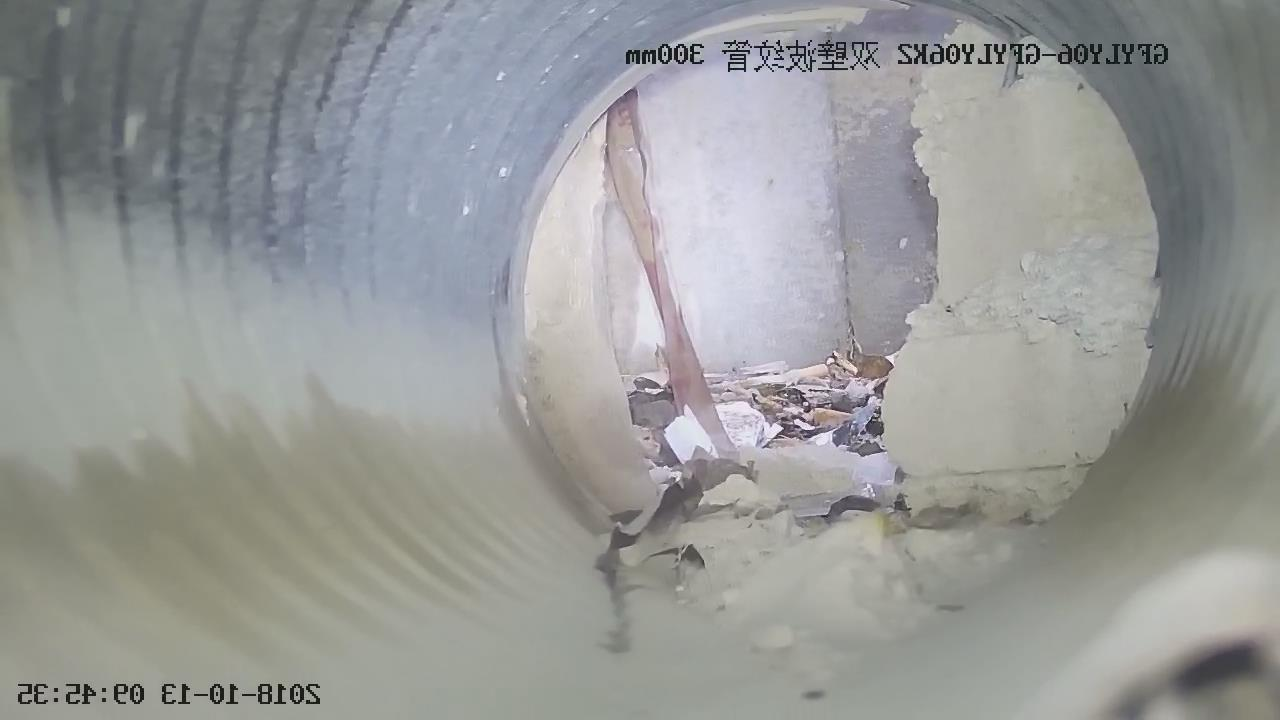CQBG: (882, 15, 1160, 521), (521, 117, 665, 520)
